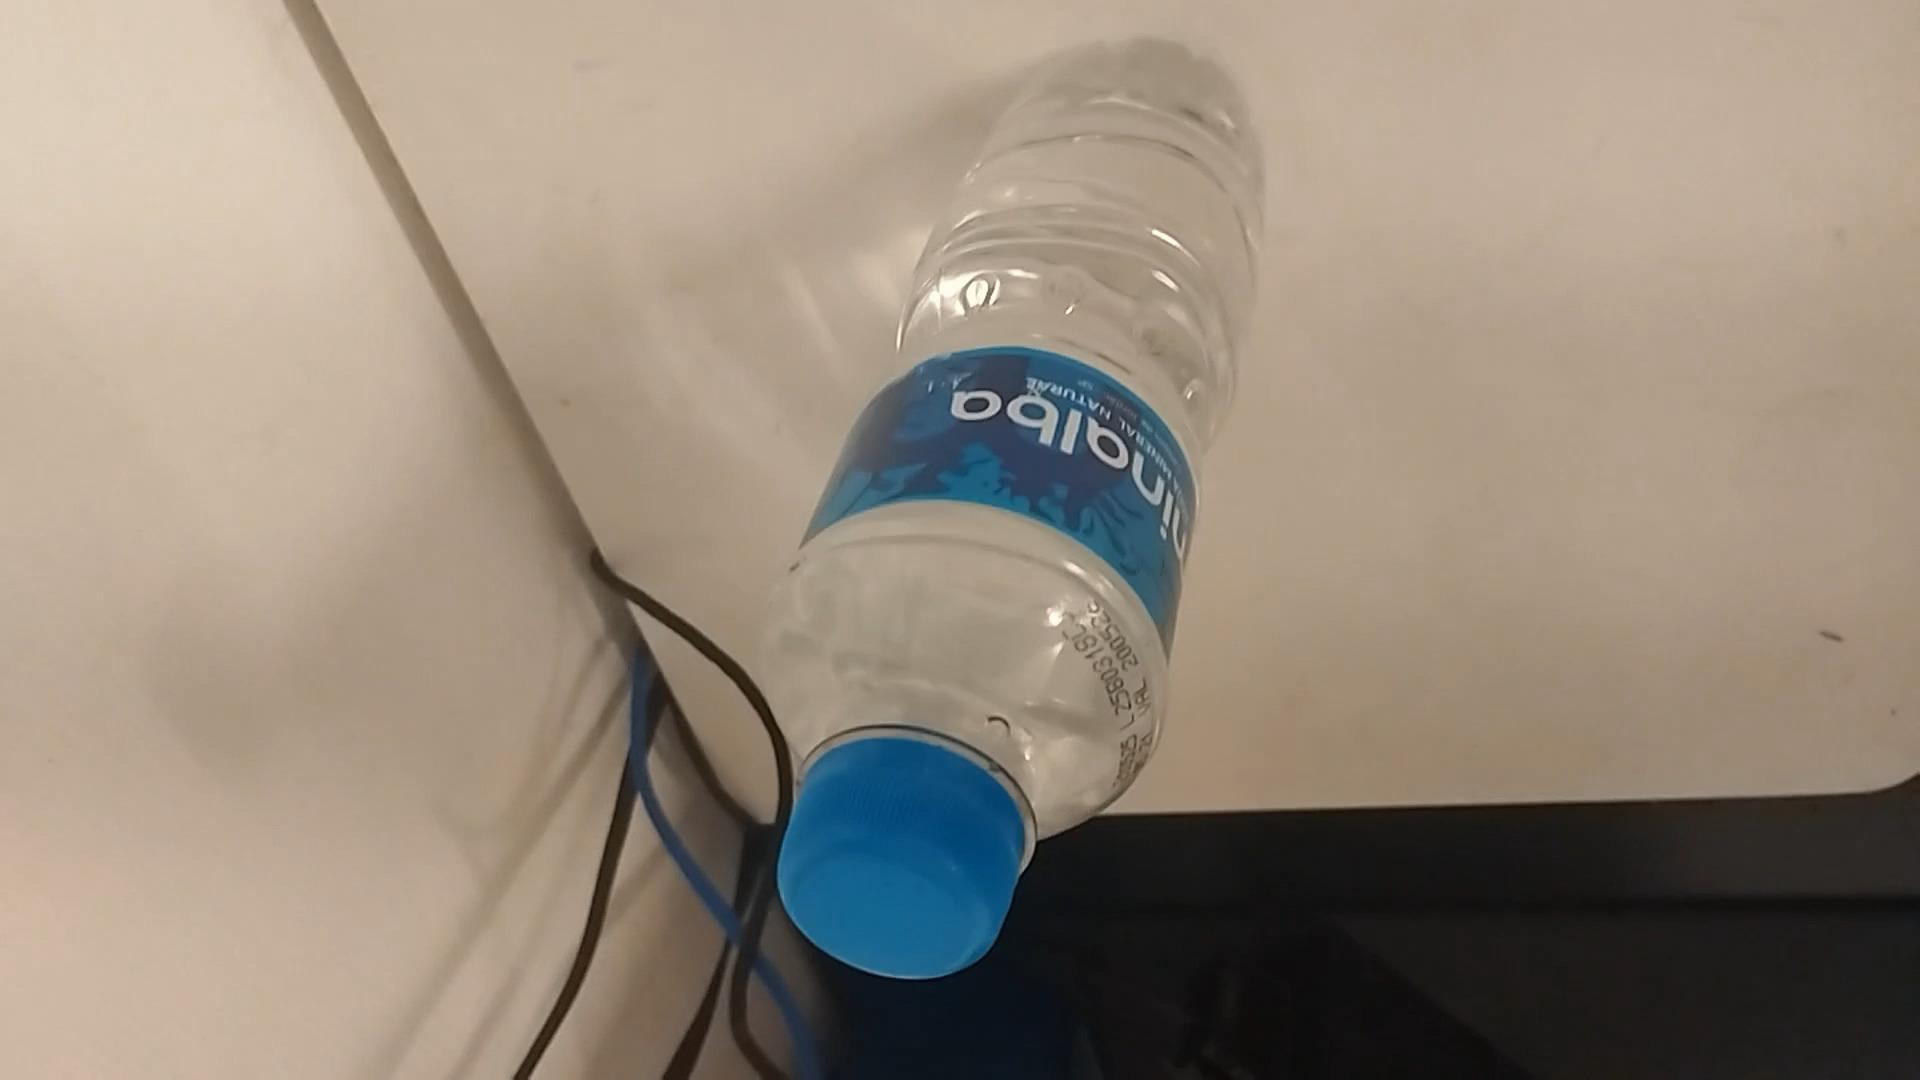agua: (758, 40, 1255, 984)
